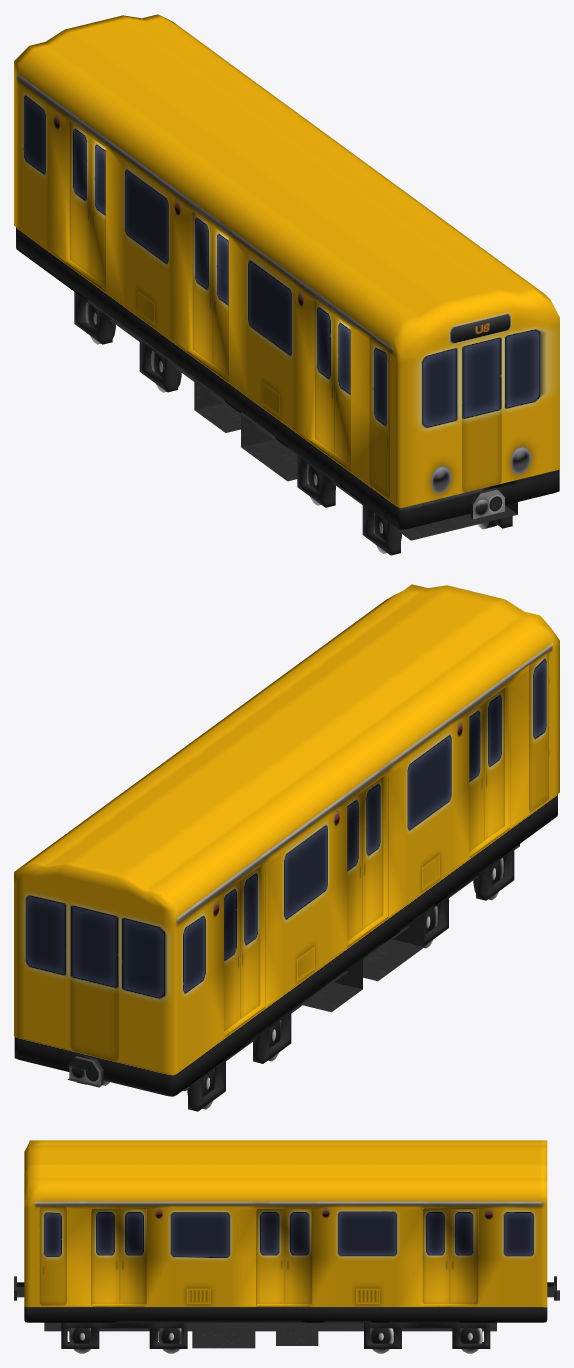
The model's file is ubahn_wagon.glb.
3 views of the same model, one above another, from view 1: azimuth 30°, elevation 25°; view 2: azimuth 150°, elevation 25°; view 3: azimuth 270°, elevation 25° (orthographic). The views are drawn at different scales.
Parts seen in each view (by area): view 1: Object_2.001; view 2: Object_2.001; view 3: Object_2.001.
Part boxes in pixels (x1,y1,x2,y2): Object_2.001: (14, 14, 559, 555); Object_2.001: (14, 584, 559, 1111); Object_2.001: (14, 1140, 559, 1353).
Bounding box in the file's own units: 7.76 × 12.2 × 33.72.
Materials: 1 (1 with a texture image).
